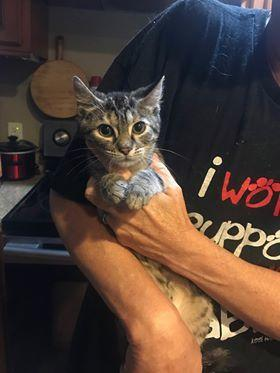bengal: (69, 71, 167, 172)
